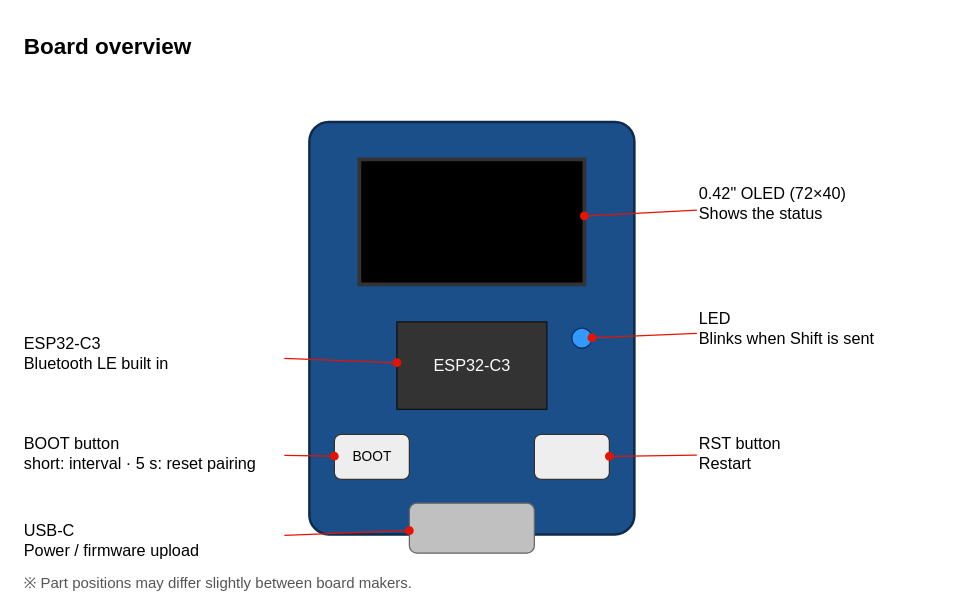
This 980x613 diagram has some shape labels left out. The shapes that lost their labels are listed below. From the top down, each one's centre as x and y in pixels, then its label:
point 571,456: RST
point 471,527: USB-C
